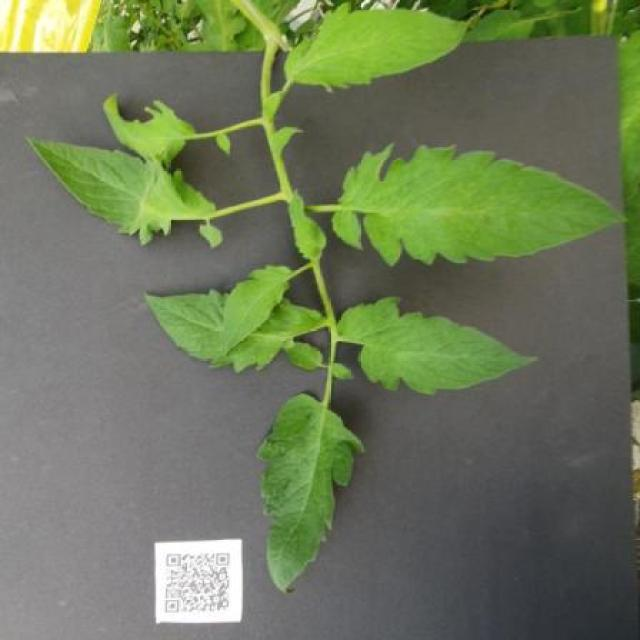Healthy: (331, 145, 626, 266), (256, 392, 366, 595), (338, 295, 539, 396), (285, 1, 469, 94), (222, 264, 292, 354)
